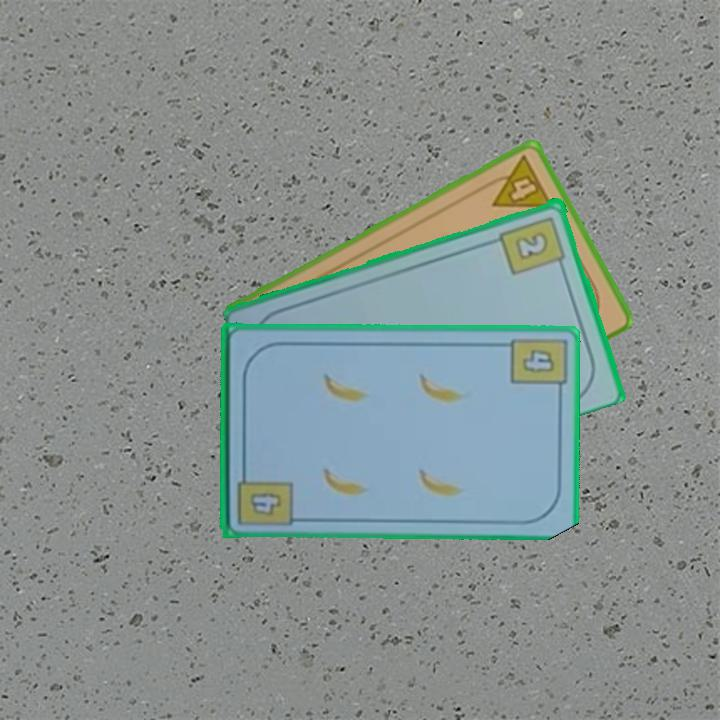2b: (496, 212, 569, 278)
4b: (506, 334, 567, 398), (247, 488, 285, 518)
4p: (479, 151, 556, 212)
